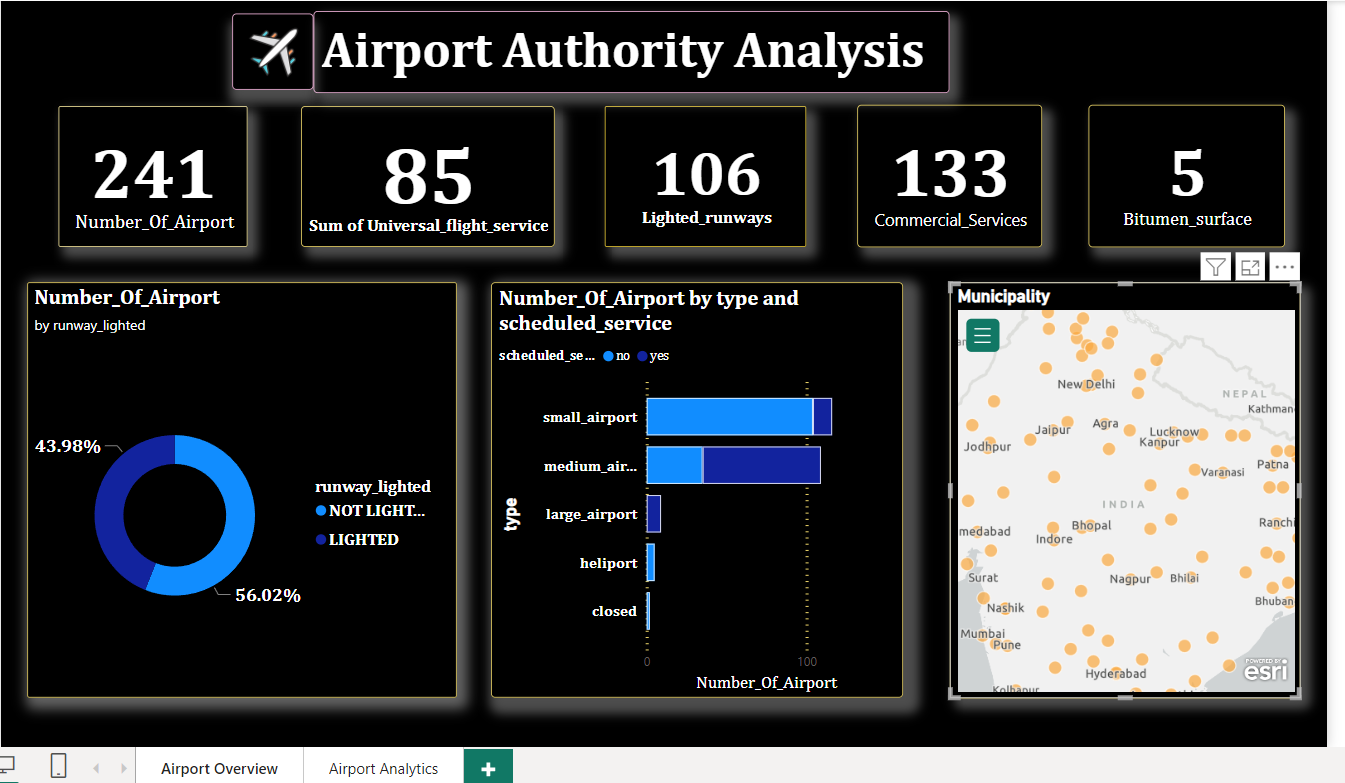

What the dashboard file says about the page in this screenshot:
{"tool":"powerbi","page":{"name":"Airport Overview","canvas":[1280,720],"ordinal":0},"visuals":[{"type":"card","fields":{"Values":["World_Airports.Number_Of_Airport"]},"box":[55.5,101.3,182.1,136.3],"z":0},{"type":"donutChart","fields":{"Y":["World_Airports.Number_Of_Airport"],"Category":["World_Airports.runway_lighted"]},"box":[25,271.4,414.3,401.2],"z":1000},{"type":"card","fields":{"Values":["Sum(World_Airports.Universal_flight_service)"]},"box":[289.4,101.3,244.8,136.3],"z":2000},{"type":"barChart","fields":{"Y":["World_Airports.Number_Of_Airport"],"Category":["World_Airports.type"],"Series":["World_Airports.scheduled_service"]},"box":[472.6,271.4,397.6,401.2],"z":3000},{"type":"card","fields":{"Values":["World_Airports.Lighted_runways"]},"box":[582.5,101.3,194.2,136.3],"z":4000},{"type":"card","fields":{"Values":["World_Airports.Bitumen_surface"]},"box":[1049.2,100.1,189.3,137.5],"z":5000},{"type":"textbox","box":[301.5,9.6,613.9,79.6],"z":6000},{"type":"image","box":[223.1,12.1,78.4,73.6],"z":7000},{"type":"card","fields":{"Values":["World_Airports.Commercial_Services"]},"box":[826.1,100.1,178.5,137.5],"z":8000},{"type":"esriVisual","title":"Municipality","fields":{"Location":["World_Airports.municipality"],"Color":["World_Airports.name"]},"box":[915.4,271.4,344.9,410.1],"z":9000}]}

Visuals, with their boxes on the page's 1280x720 design canvas (x1, y1, x2, y2). These are canvas units, not pixel positions in the 1345x783 screenshot, which may show the page scaled, cropped or inside an application window:
card - World_Airports.Number_Of_Airport: <region>56, 101, 238, 238</region>
donutChart - World_Airports.Number_Of_Airport x World_Airports.runway_lighted: <region>25, 271, 439, 673</region>
card - Sum(World_Airports.Universal_flight_service): <region>289, 101, 534, 238</region>
barChart - World_Airports.Number_Of_Airport x World_Airports.type: <region>473, 271, 870, 673</region>
card - World_Airports.Lighted_runways: <region>582, 101, 777, 238</region>
card - World_Airports.Bitumen_surface: <region>1049, 100, 1238, 238</region>
textbox: <region>302, 10, 915, 89</region>
image: <region>223, 12, 302, 86</region>
card - World_Airports.Commercial_Services: <region>826, 100, 1005, 238</region>
"Municipality" esriVisual: <region>915, 271, 1260, 682</region>
